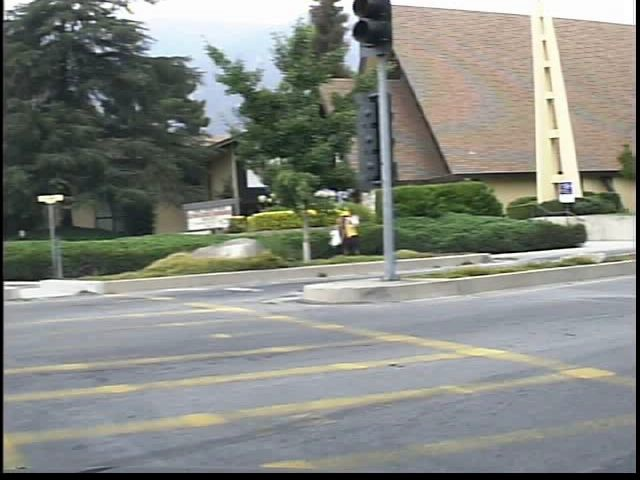person: (350, 205, 378, 260)
